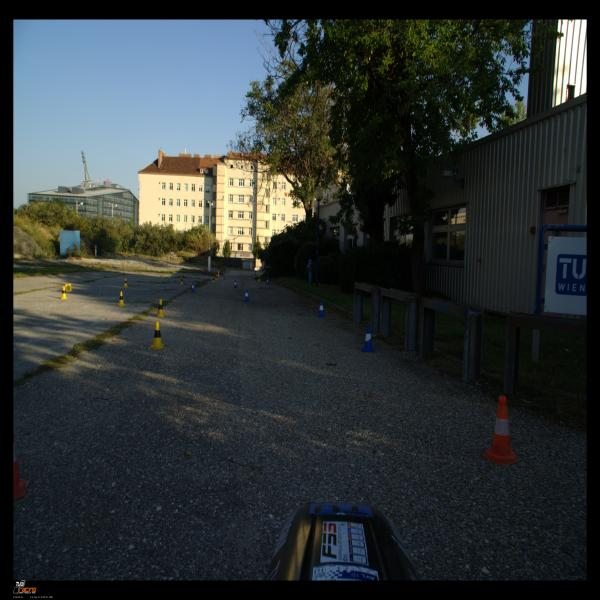blue_cone: (361, 326, 375, 352), (317, 301, 326, 317), (243, 289, 250, 302), (190, 282, 195, 292), (233, 280, 238, 288), (266, 278, 269, 285)
large_orange_cone: (254, 271, 257, 279), (218, 270, 220, 278)
orange_cone: (481, 396, 522, 466), (14, 433, 30, 501)
yellow_cone: (148, 322, 167, 350), (156, 299, 166, 317), (117, 291, 126, 306), (61, 286, 68, 299), (65, 284, 72, 292), (123, 278, 128, 287), (179, 276, 184, 284), (212, 276, 216, 283), (258, 275, 261, 282), (215, 274, 218, 281)
